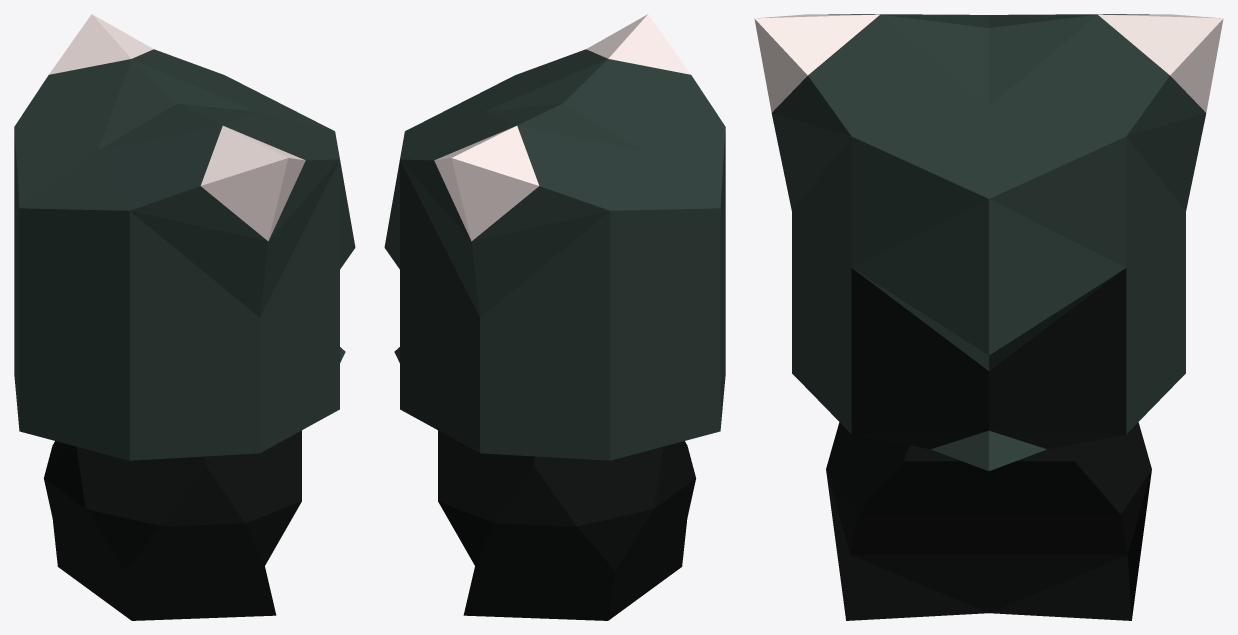
File: ogre.glb
3 renders of one model, left to right at view 1: azimuth 30°, elevation 25°; view 2: azimuth 150°, elevation 25°; view 3: azimuth 270°, elevation 25°, orthographic. The views are drawn at different scales.
Visible parts, largest first — view 1: ogre; view 2: ogre; view 3: ogre.
Boxes of the visible parts, left/top/right/bottom form: ogre: left=14, top=14, right=355, bottom=620; ogre: left=384, top=14, right=725, bottom=620; ogre: left=754, top=14, right=1223, bottom=620.
Size of the model in its own units: 6.39 by 8.96 by 6.47.
Materials: 1 (1 with a texture image).
